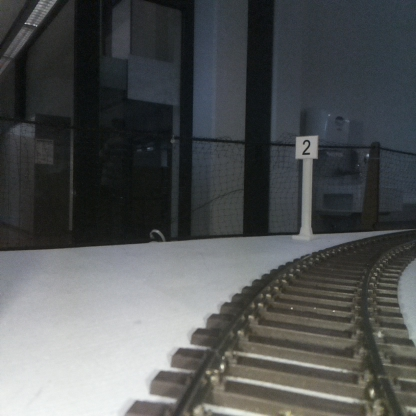white-info-2: (295, 135, 318, 238)
